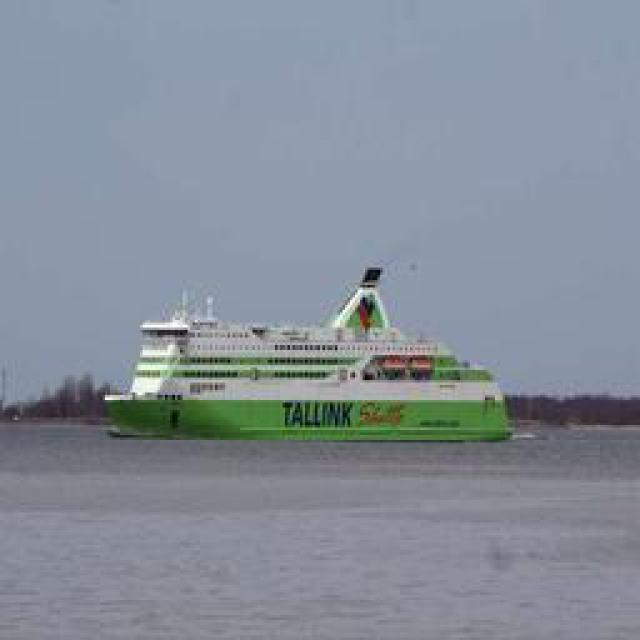Ship: (104, 261, 519, 444)
